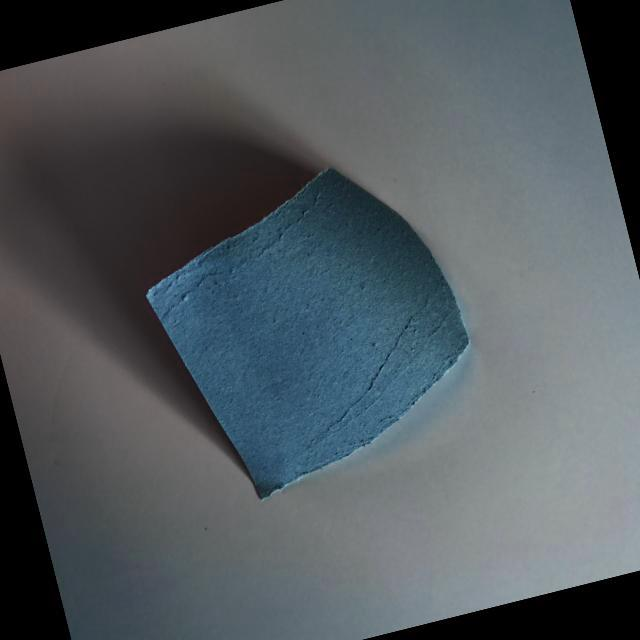paper: (101, 128, 515, 552)
